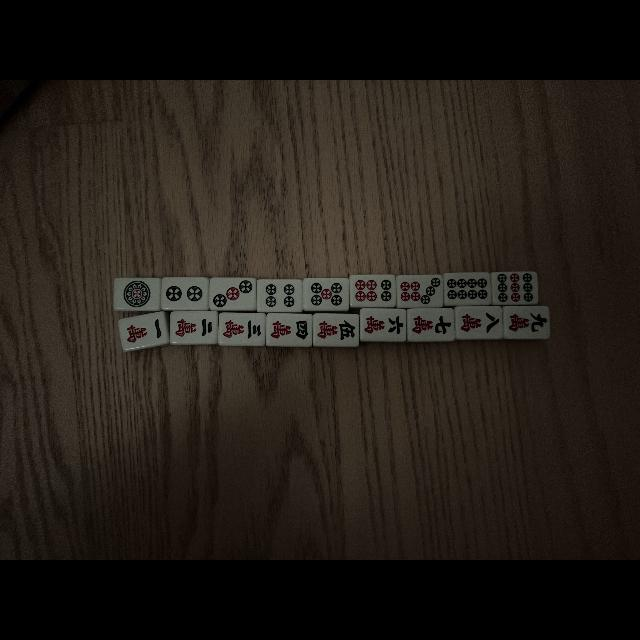c1: (120, 314, 166, 348)
c2: (172, 312, 218, 342)
c3: (220, 313, 264, 345)
c4: (268, 315, 312, 345)
c5: (314, 314, 358, 346)
c6: (360, 309, 406, 341)
c7: (408, 309, 454, 341)
c8: (455, 307, 501, 338)
c9: (505, 306, 549, 338)
d1: (115, 280, 159, 310)
d2: (162, 277, 208, 309)
d3: (210, 278, 256, 310)
d4: (258, 279, 302, 311)
d5: (304, 278, 348, 310)
d6: (351, 276, 395, 306)
d7: (398, 276, 442, 306)
d8: (445, 274, 489, 304)
d9: (493, 272, 537, 304)
